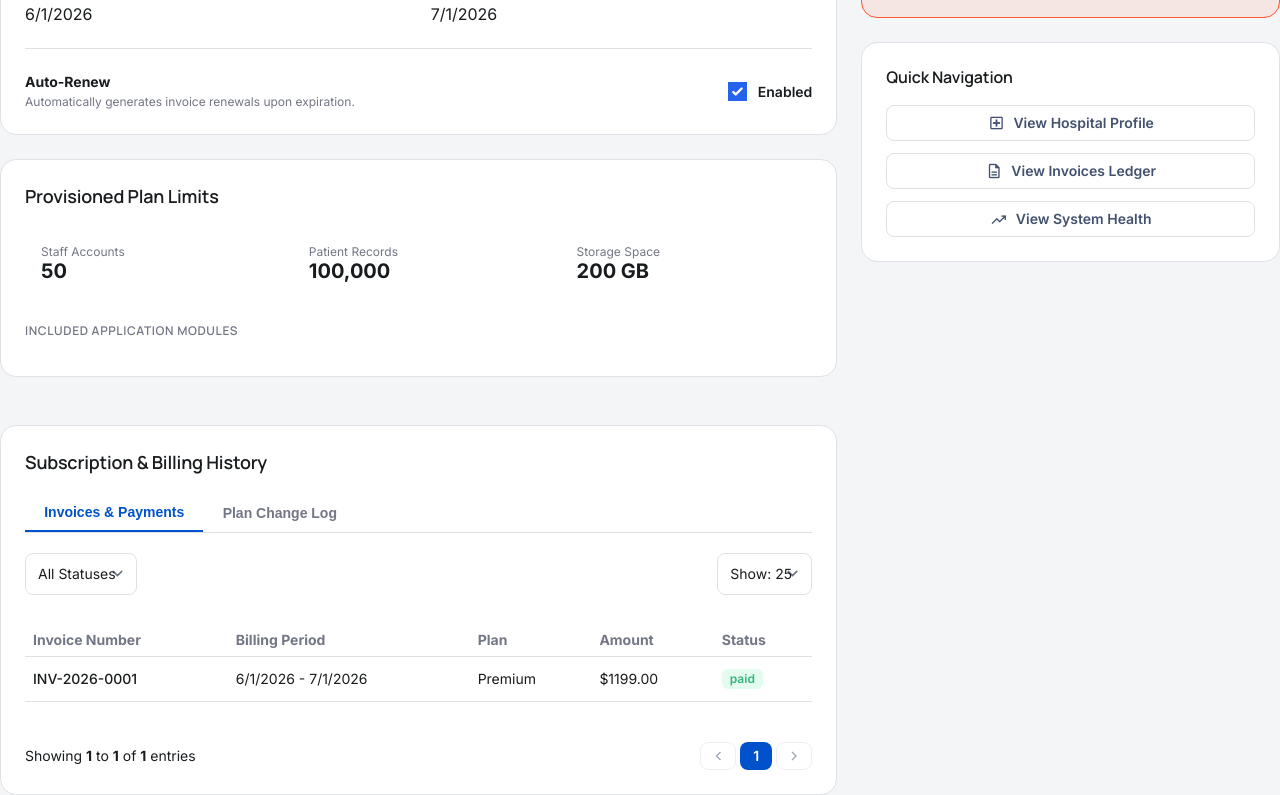
Test: SubscriptionDetailPage › renders invoices and plan history log tabs correctly
The image size is (1280, 795).
(page scrolled)
Check: the heading "Subscription & Billing History" is shown, box [25,450,267,474]
Check: the text "INV-2026-0001" is shown, box [25,656,228,701]
Note: Switch to Plan Change Log tab
Click the button "Plan Change Log". click: (280,513)
box: [203,495,356,532]
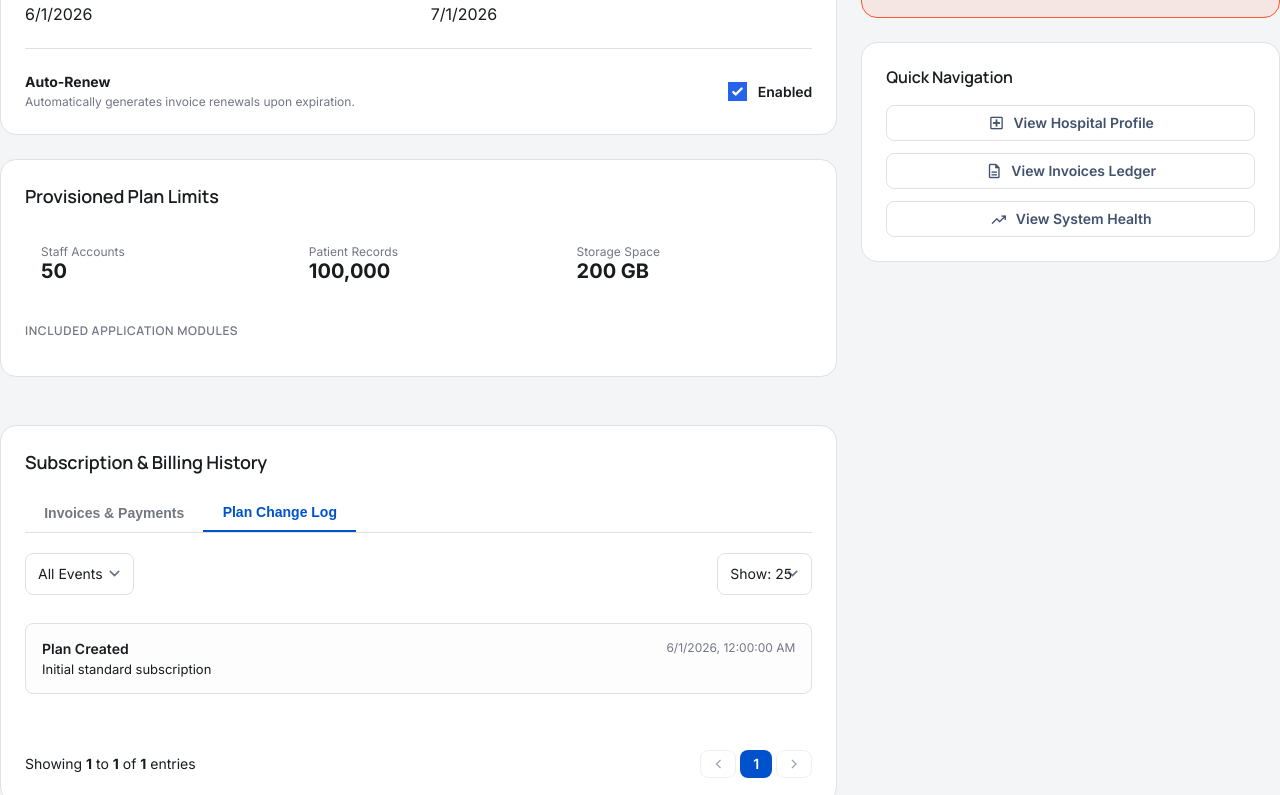
Check: the text "Initial standard subscription" is shown, box [42,661,211,677]
